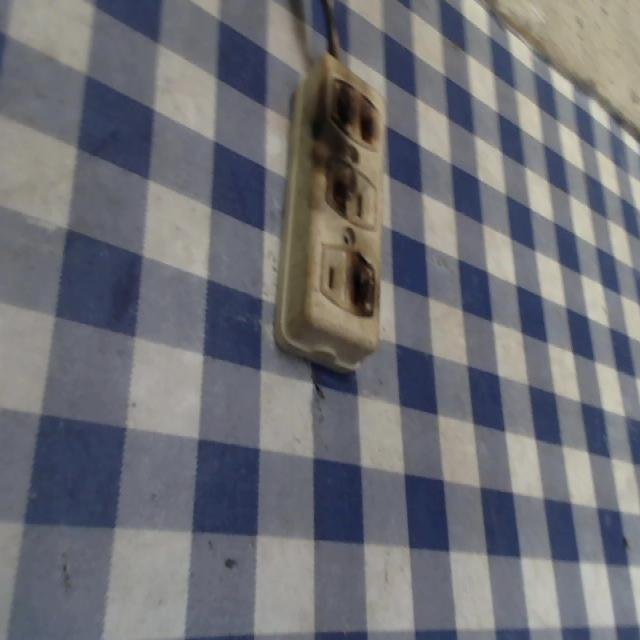-: (328, 68, 384, 148), (348, 246, 380, 318), (321, 158, 356, 218)
